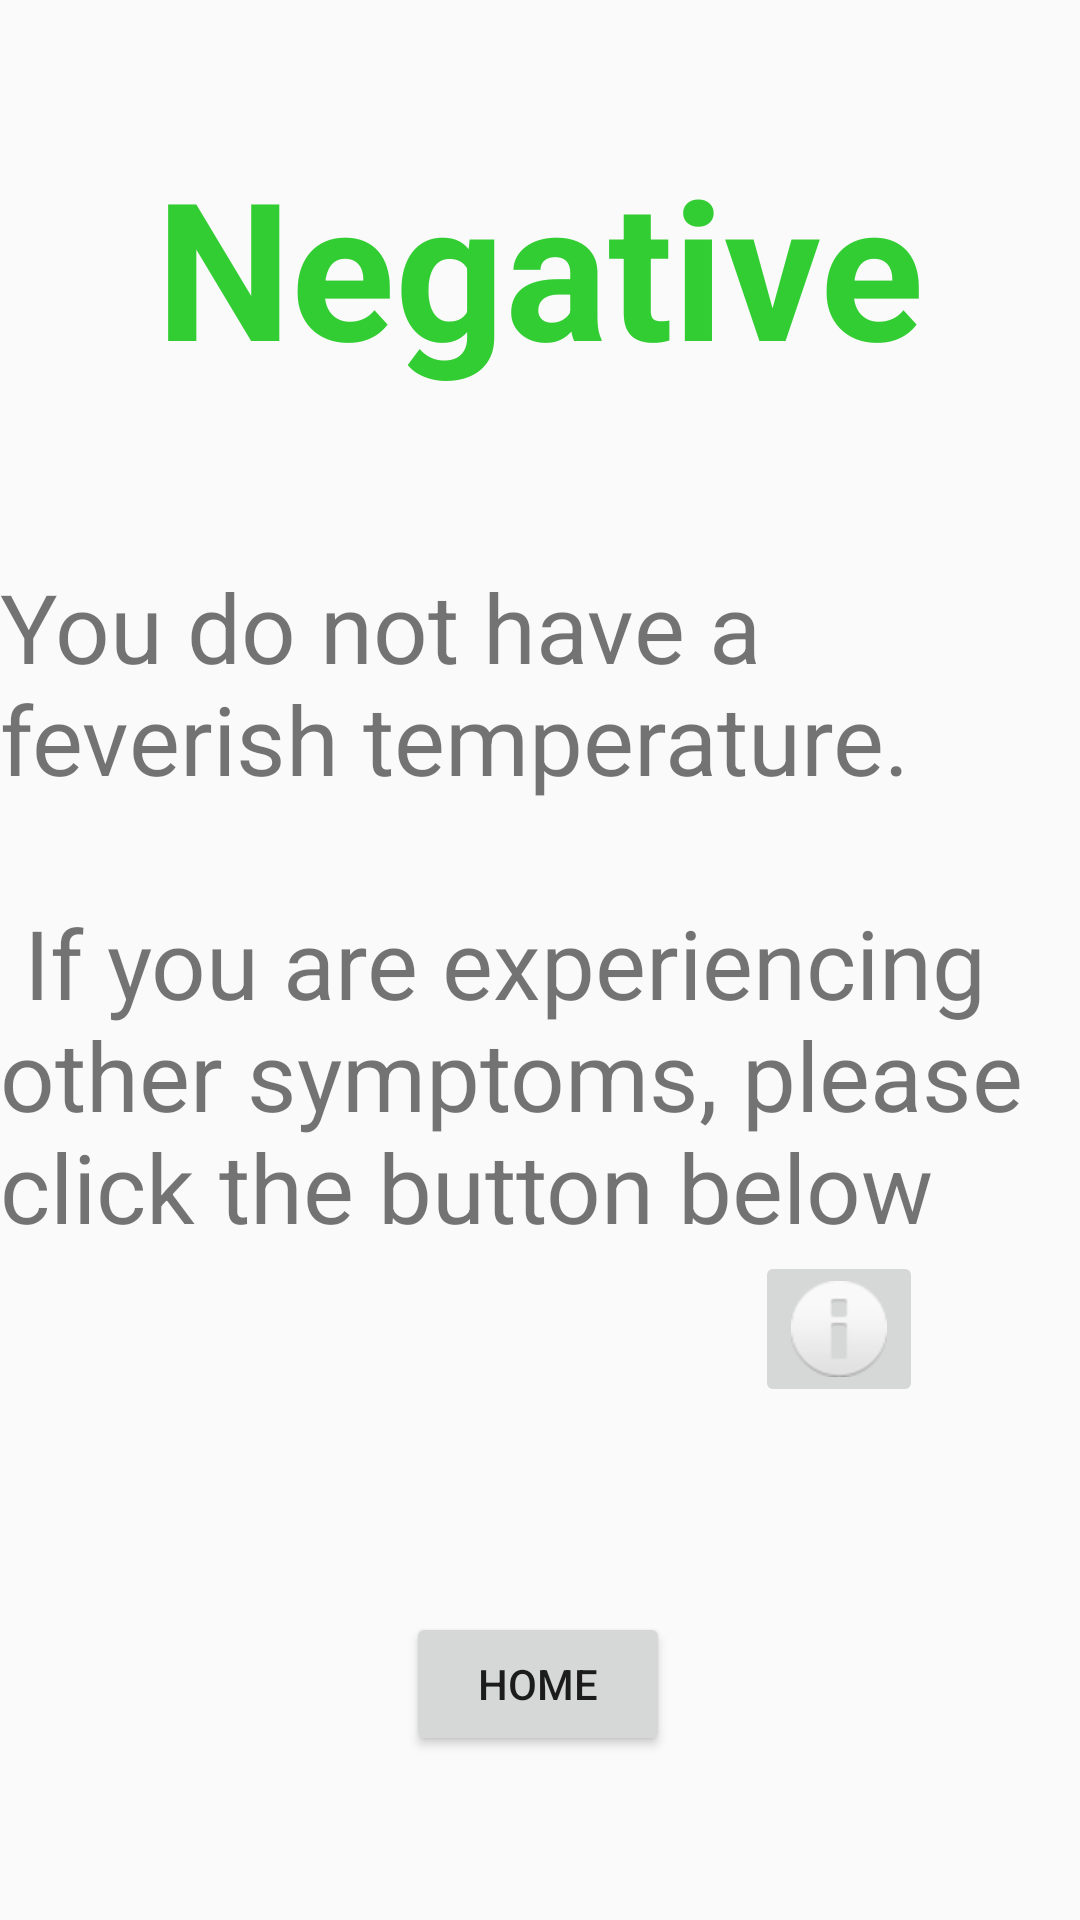

Screen size 1080px×1920px. Icon name, then its box in pixels as (x1, y1, x2, y2):
Redirects user to modal with more symptoms listed: (767, 1269, 911, 1389)
